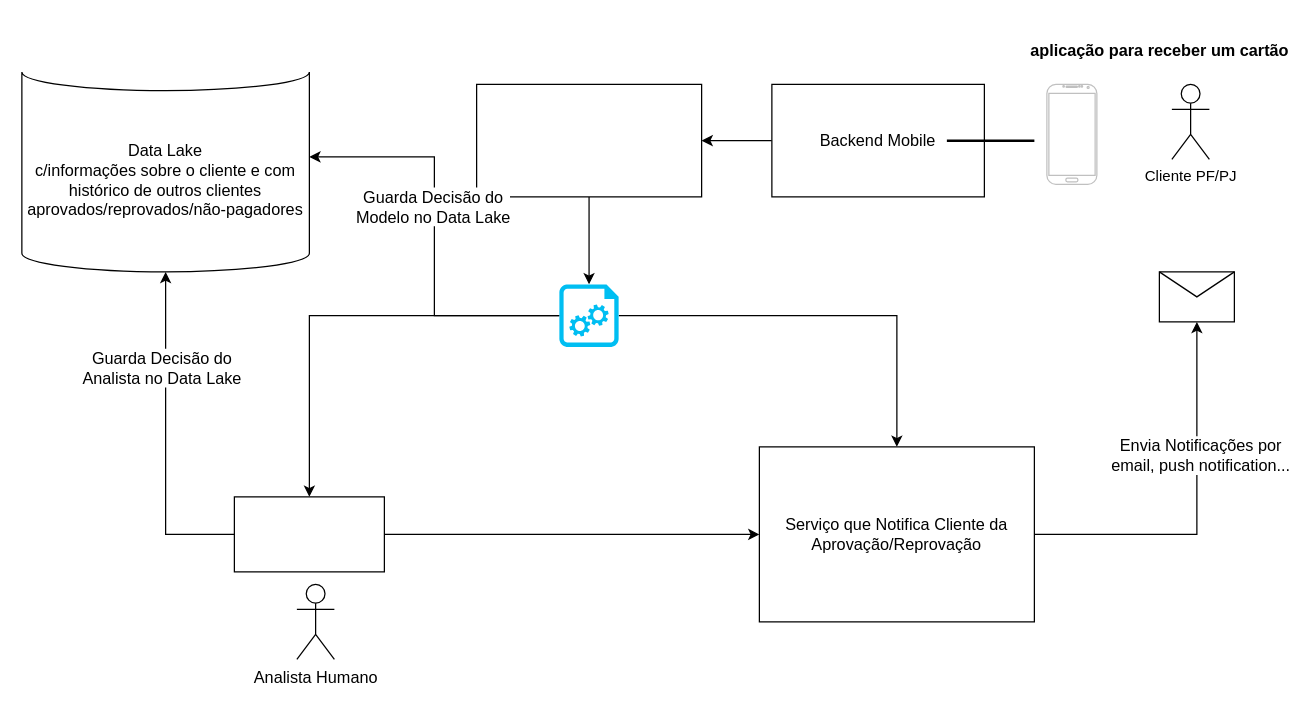
Image size: 1311x709. Some labels were removed from this diagram. Here are the shapes that lost their labels. From the top down, the box of each, then its label:
(475, 83, 702, 197): Fila de Clientes para Avaliação
(559, 284, 618, 346): Job que Roda Modelo de Classificação/Score para Receber Cartão
(233, 496, 384, 572): Aplicação de Suporte ao Analista Humano
